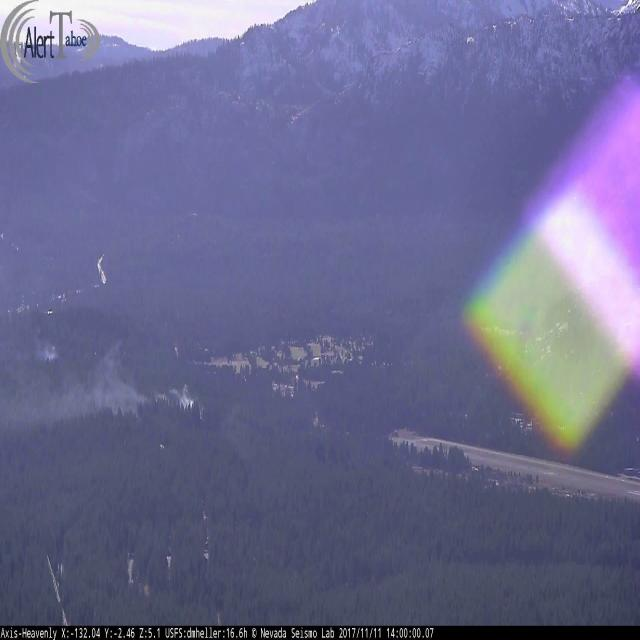smoke: (0, 336, 205, 419), (0, 325, 61, 360)
